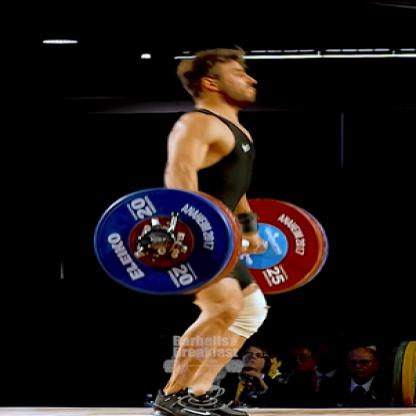Barbell: (87, 180, 249, 300)
